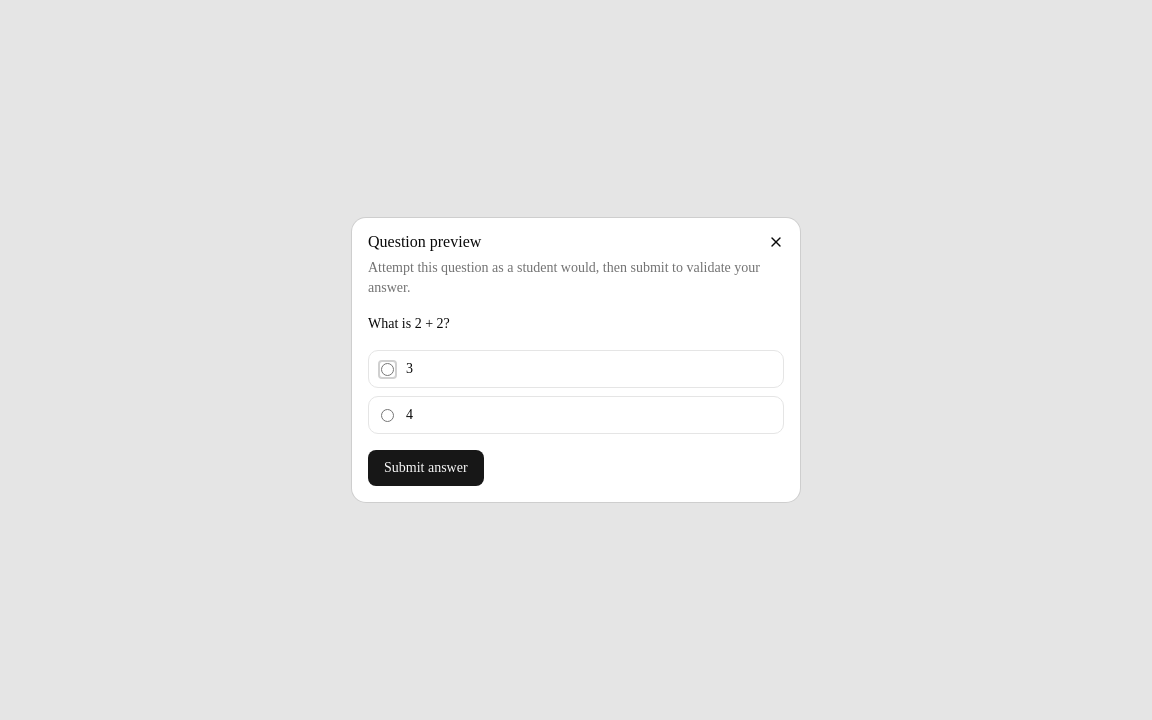
Test: QuestionPreviewDialog › shows correct result when the right choice is submitted
Click the radio button labelled "4" at (388, 415), box [381,408,394,422]
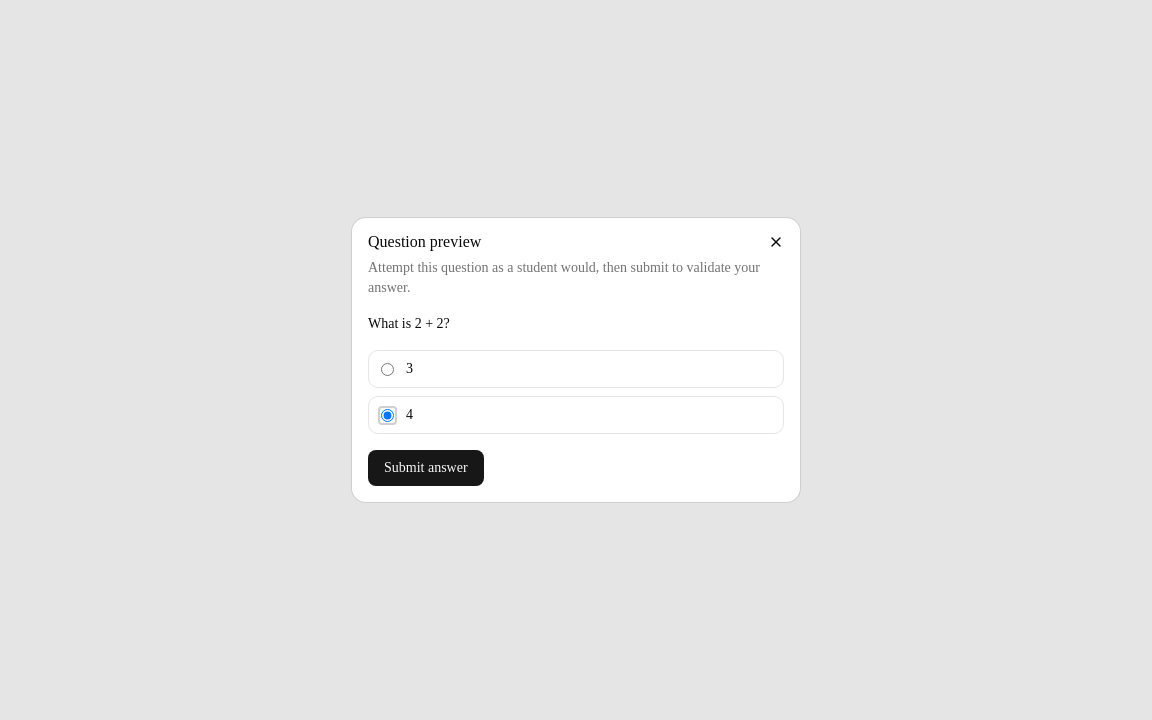
Click the button "Submit answer" at (426, 468), box [368,450,484,486]
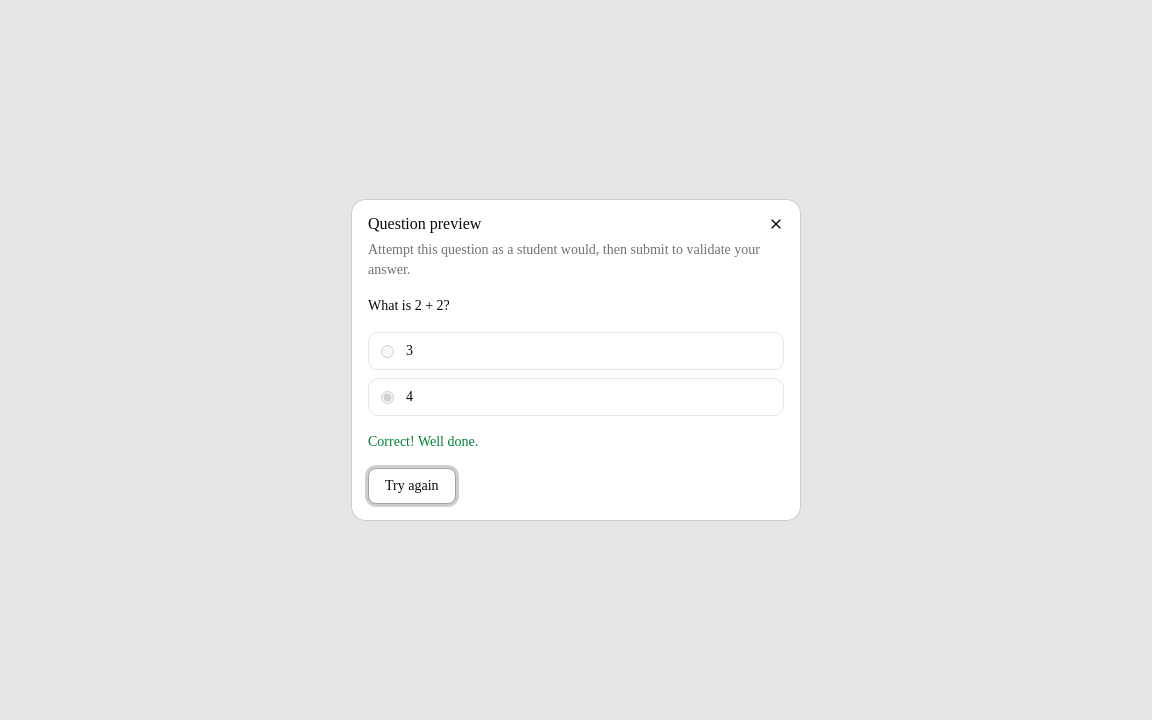
Now the text "Correct! Well done." is shown, box [368,434,478,449]
